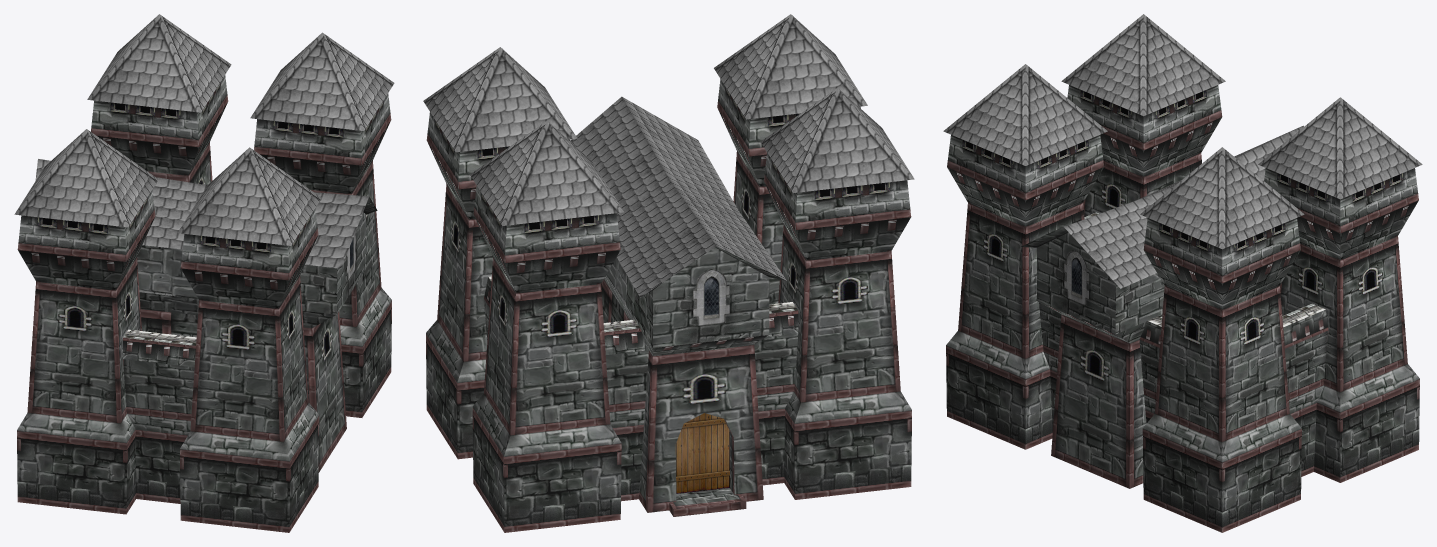
File: h_barracks.FBX
The picture shows the model from 3 angles, left to right: view 1: azimuth 30°, elevation 25°; view 2: azimuth 150°, elevation 25°; view 3: azimuth 270°, elevation 25°; orthographic projection. The views are drawn at different scales.
Visible parts, largest first — view 1: h_barracks; view 2: h_barracks; view 3: h_barracks.
Part boxes in pixels (box(x1,y1,x2,y2)): h_barracks: box(14, 14, 394, 532); h_barracks: box(423, 14, 914, 532); h_barracks: box(943, 14, 1422, 532).
Size of the model in its own units: 244 by 198 by 244.
